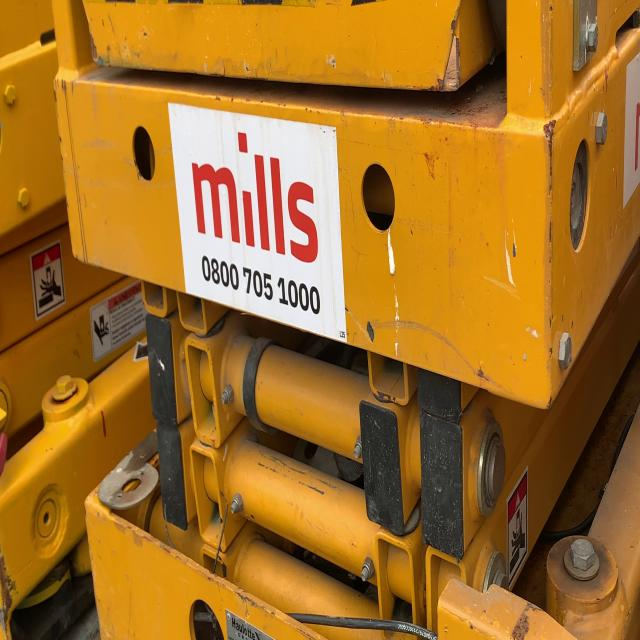Adesivos: (166, 100, 348, 345)
